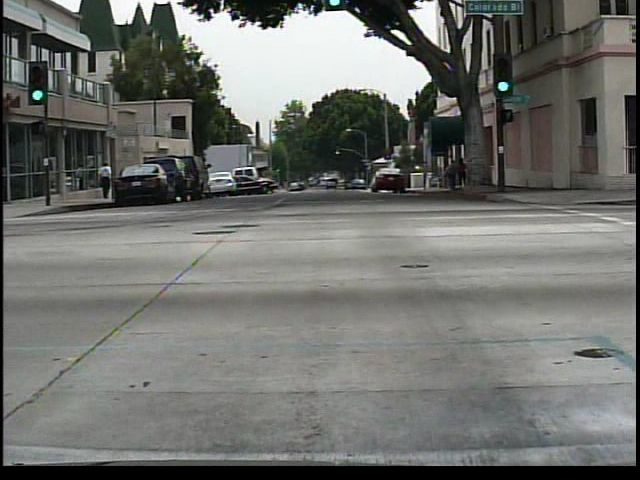person: (452, 152, 477, 200), (98, 154, 114, 203), (442, 159, 460, 193)
